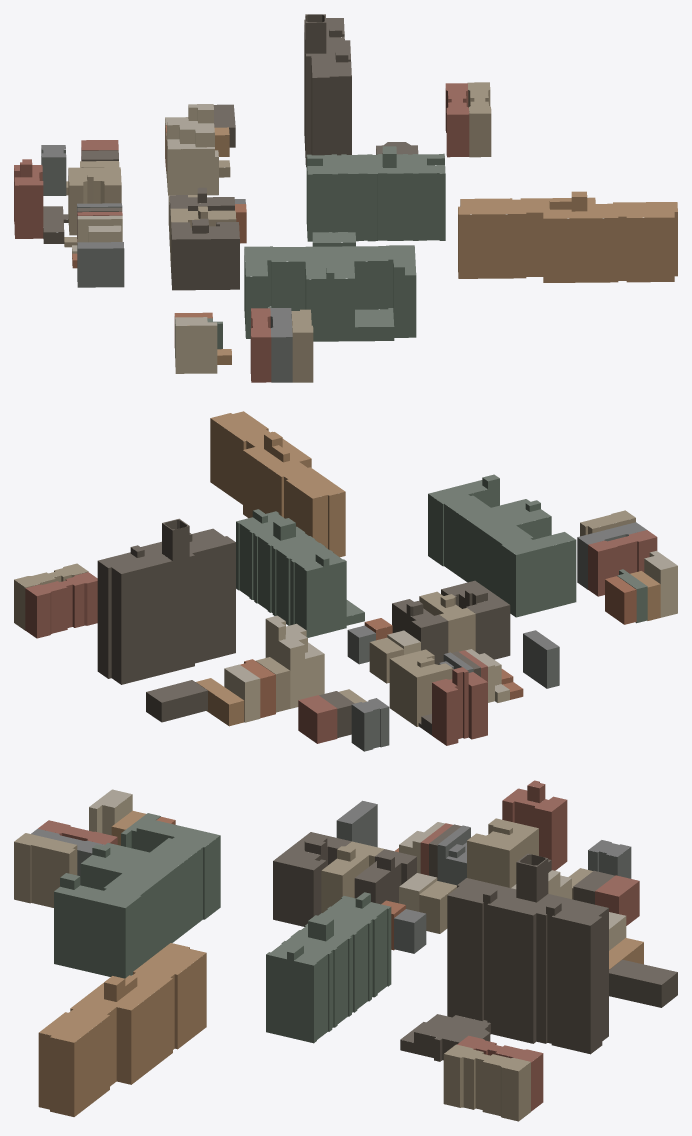
File: tile-8_1.glb
The picture shows the model from 3 angles, top to bottom: view 1: azimuth 30°, elevation 25°; view 2: azimuth 150°, elevation 25°; view 3: azimuth 270°, elevation 25°; orthographic projection. The views are drawn at different scales.
Parts seen in each view (by area): view 1: wall, roof; view 2: wall, roof; view 3: wall, roof.
Part boxes in pixels (x1,y1,x2,y2): wall: (14, 14, 677, 382); roof: (14, 14, 677, 355); wall: (14, 418, 677, 751); roof: (14, 411, 677, 724); wall: (14, 782, 677, 1121); roof: (14, 780, 677, 1071).
Bounding box in the file's own units: 211 × 59.65 × 215.
